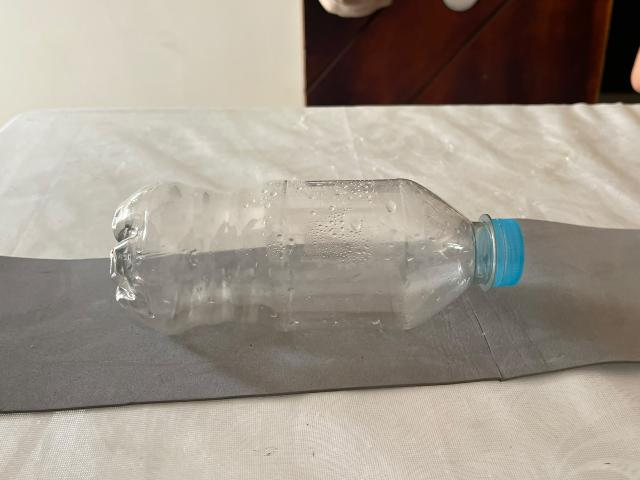PET: (76, 120, 587, 426)
